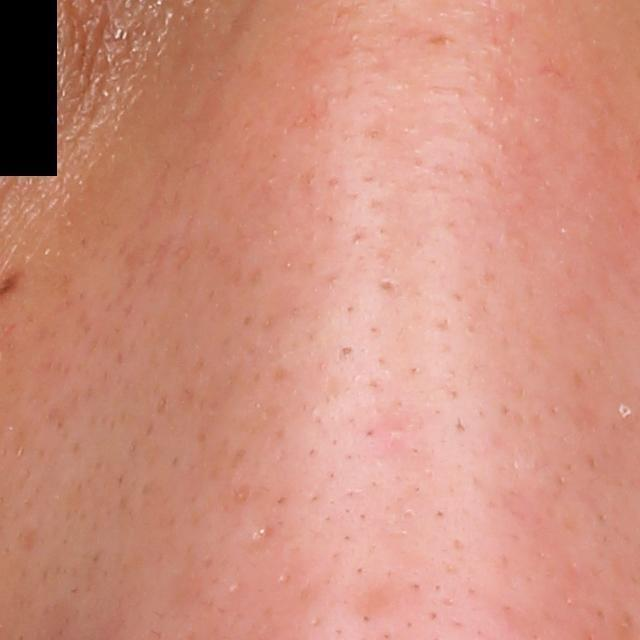atrophic_scar: (236, 520, 276, 556)
comedo: (341, 343, 354, 355)
